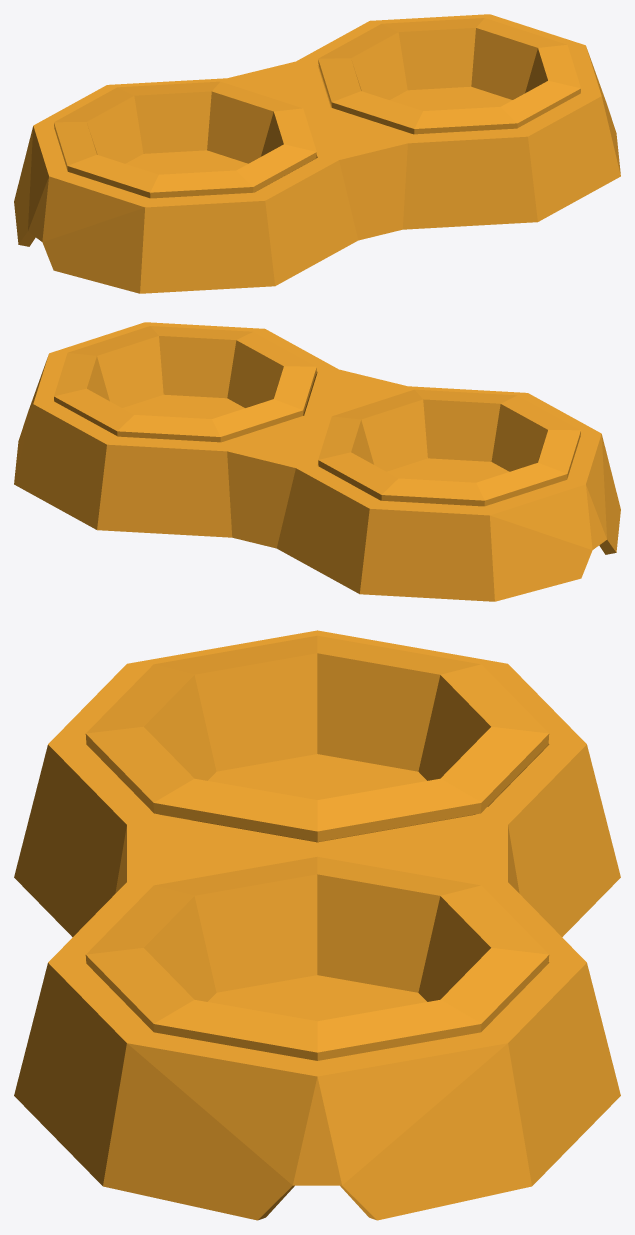
File: SM_Bowl_Dog_B.fbx
3 views of the same model, one above another, from view 1: azimuth 30°, elevation 25°; view 2: azimuth 150°, elevation 25°; view 3: azimuth 270°, elevation 25° (orthographic). The views are drawn at different scales.
Parts seen in each view (by area): view 1: bowl-dog-b-base, bowl-dog-b-bowl-a, bowl-dog-b-bowl-b; view 2: bowl-dog-b-base, bowl-dog-b-bowl-a, bowl-dog-b-bowl-b; view 3: bowl-dog-b-base, bowl-dog-b-bowl-a, bowl-dog-b-bowl-b.
Part boxes in pixels (x1=…): bowl-dog-b-base: x1=14, y1=14, x2=620, y2=293; bowl-dog-b-bowl-a: x1=54, y1=81, x2=316, y2=198; bowl-dog-b-bowl-b: x1=318, y1=18, x2=580, y2=134; bowl-dog-b-base: x1=14, y1=322, x2=620, y2=601; bowl-dog-b-bowl-a: x1=318, y1=389, x2=580, y2=506; bowl-dog-b-bowl-b: x1=54, y1=326, x2=316, y2=442; bowl-dog-b-base: x1=14, y1=630, x2=620, y2=1220; bowl-dog-b-bowl-a: x1=85, y1=635, x2=549, y2=842; bowl-dog-b-bowl-b: x1=85, y1=856, x2=549, y2=1060.
Size of the model in its own units: 0.4015 by 0.0616 by 0.2195.
